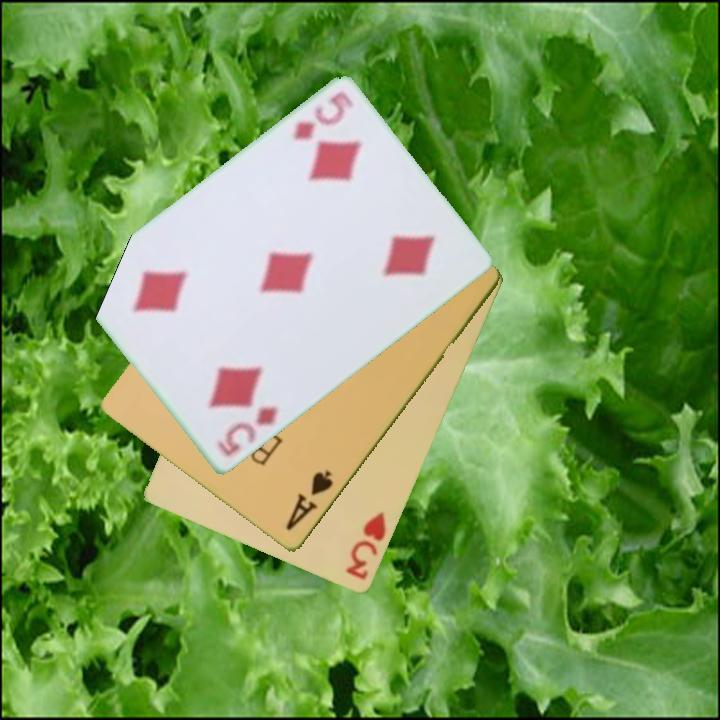3h: (342, 508, 390, 584)
5d: (212, 403, 282, 461), (290, 88, 357, 145)
As: (282, 467, 337, 534)
